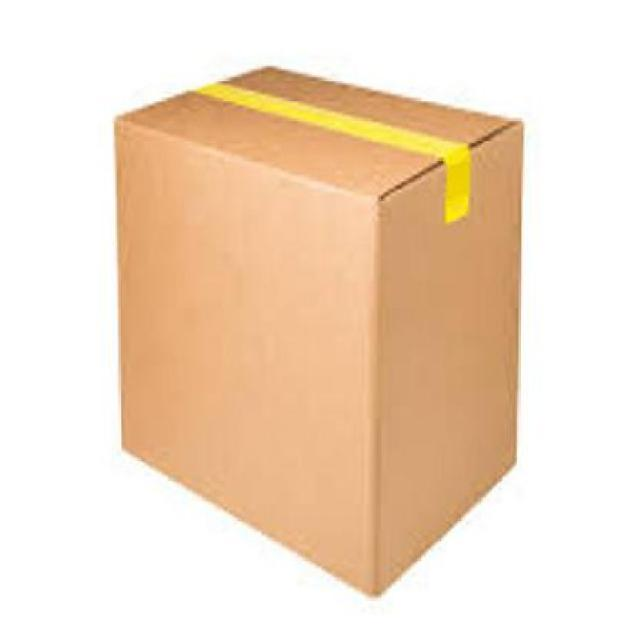normal: (98, 68, 554, 604)
